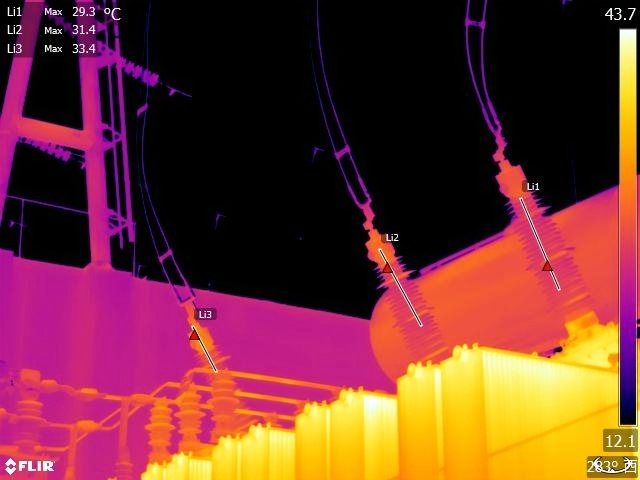insulator: (93, 36, 163, 84), (16, 139, 74, 165)
oil conservator: (362, 168, 640, 374)
post insulator: (12, 395, 45, 457), (174, 378, 205, 442), (208, 370, 241, 429), (141, 399, 177, 453)
transformer: (133, 346, 619, 480)
tube: (494, 150, 597, 318), (357, 219, 453, 366), (181, 309, 234, 384)
